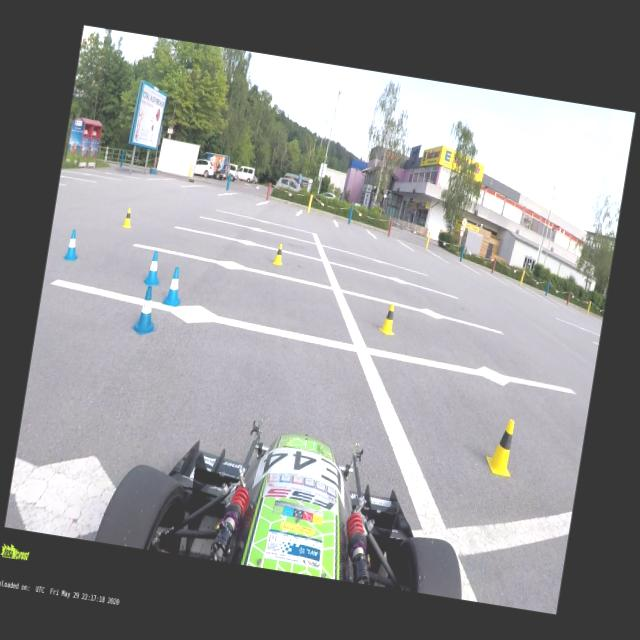blue_cone: (130, 284, 162, 338), (162, 266, 187, 308), (142, 248, 164, 288), (64, 228, 82, 262)
yellow_cone: (484, 416, 520, 478), (377, 302, 399, 336), (272, 242, 286, 266), (122, 208, 134, 230)
